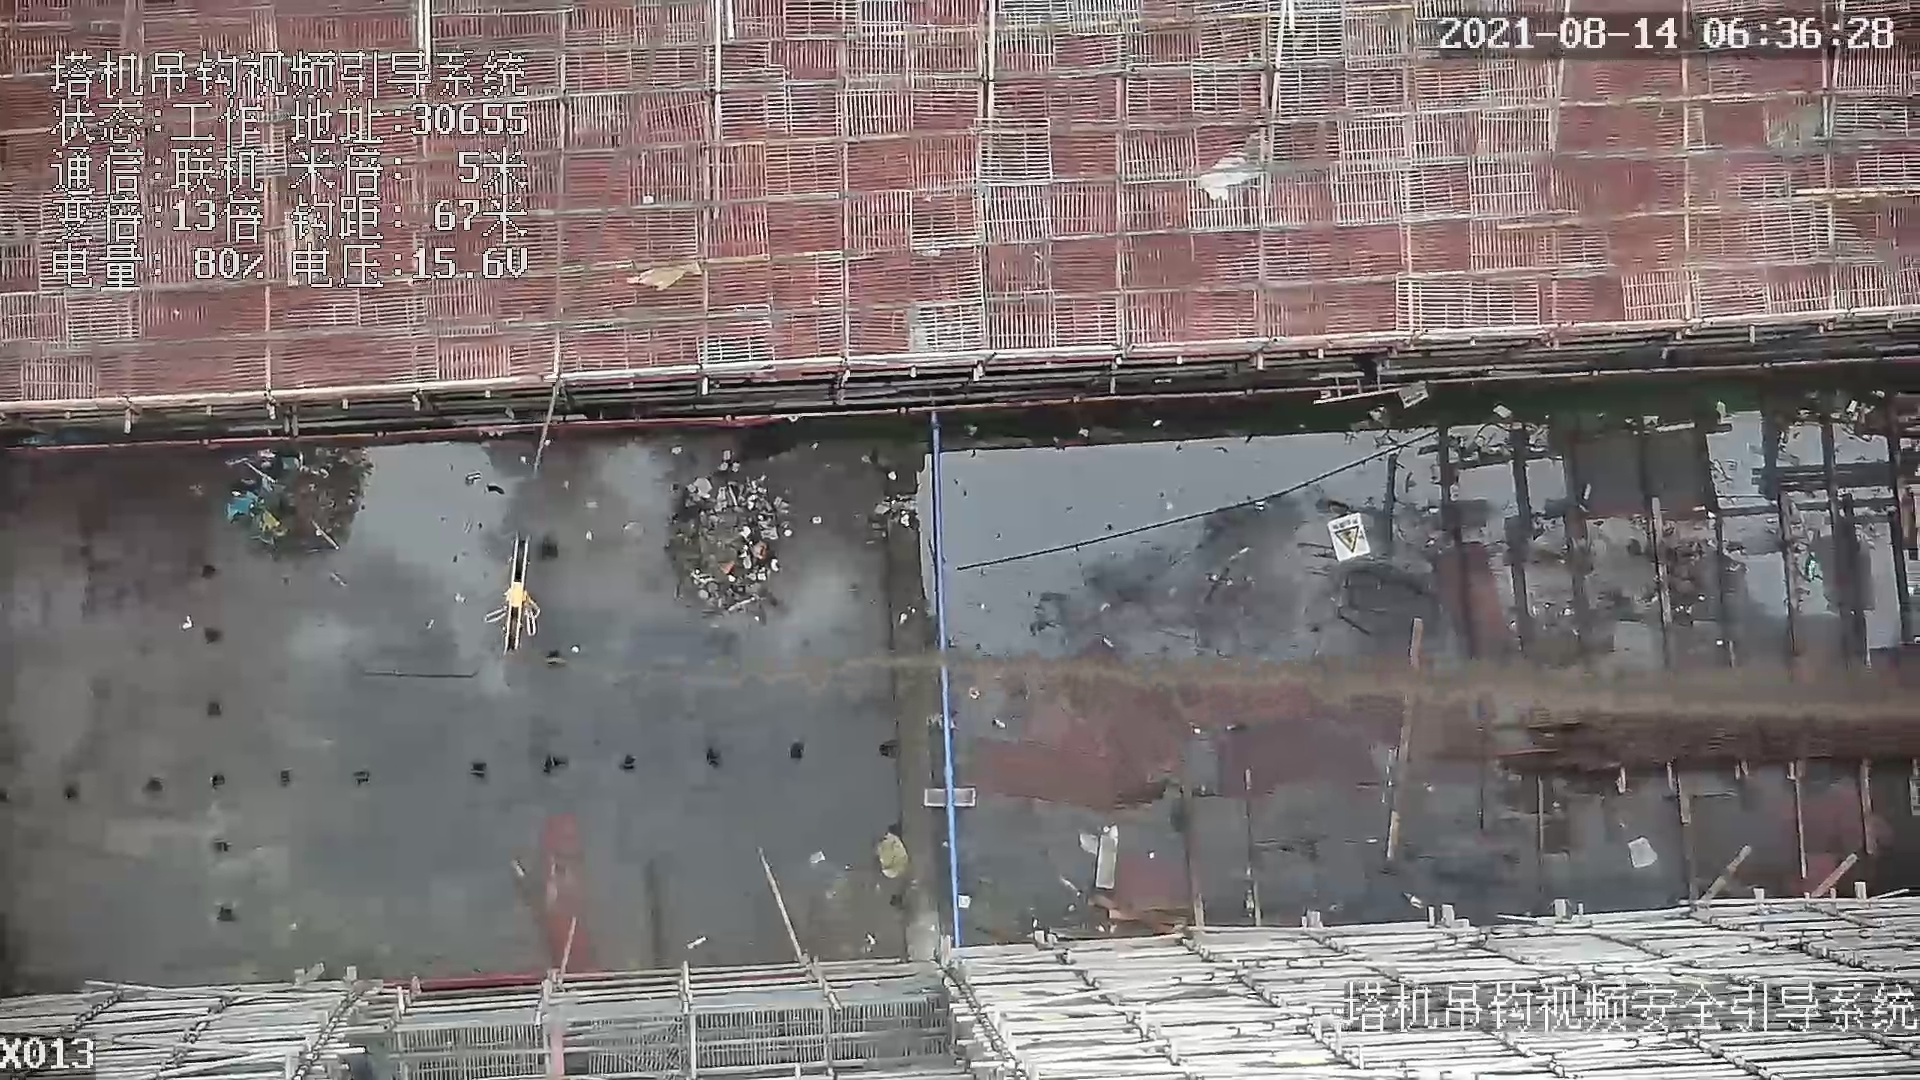hook: (485, 512, 541, 669)
